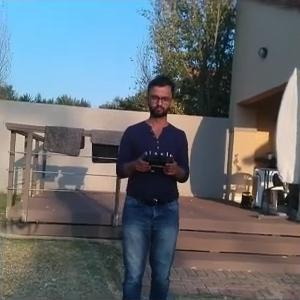follow: (113, 67, 197, 298)
